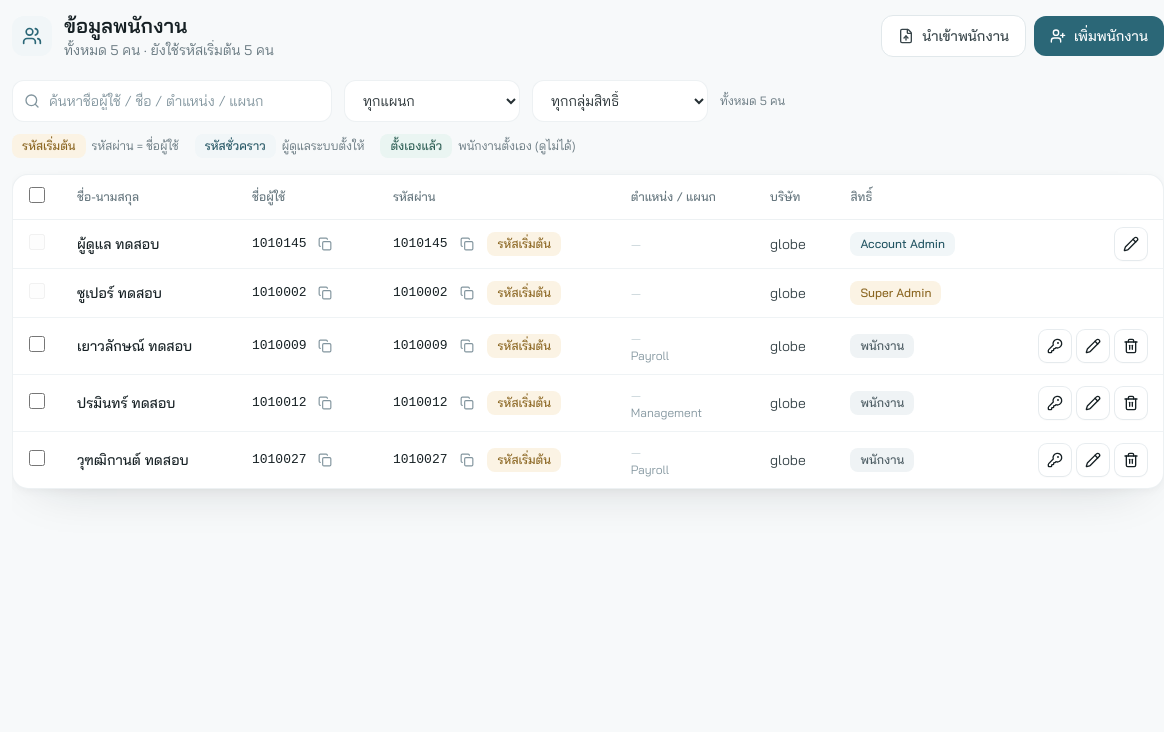
Scenario: EmployeeListPage — selecting and deleting several at once › select all ticks everyone who can be deleted, and no one else
Expected: the link "ปรมินทร์ ทดสอบ" is shown, [77, 394, 176, 412]
Step 1. Click the checkbox named "เลือกทั้งหมด" → (37, 195), box [29, 187, 45, 203]
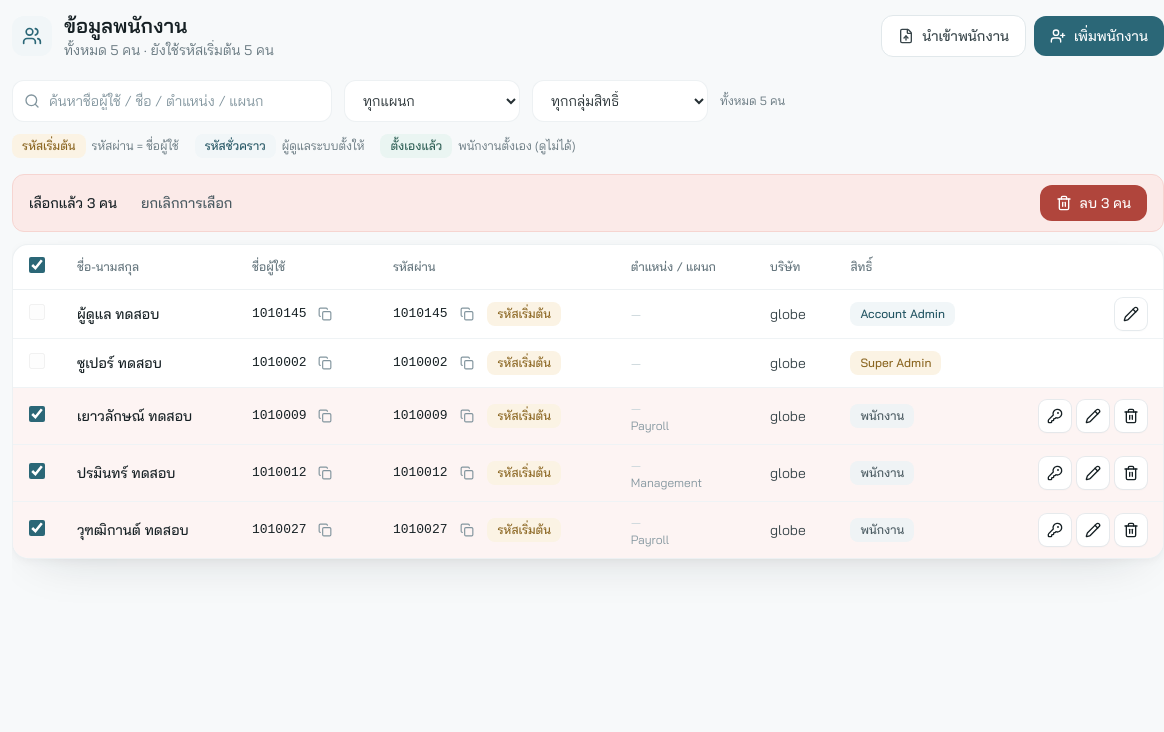
Expected: the button "ลบ 3 คน" is shown, [1040, 185, 1147, 221]
